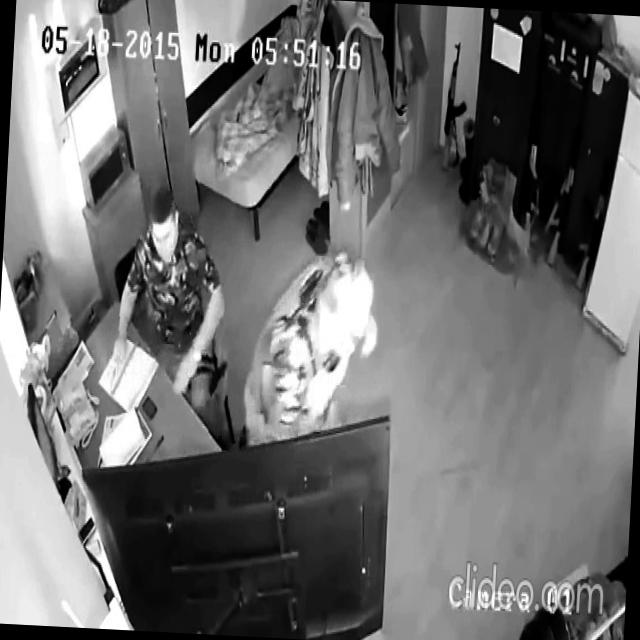gun: (574, 140, 619, 292), (544, 116, 585, 268), (516, 85, 552, 256), (439, 40, 473, 174)
person: (110, 182, 238, 448), (240, 243, 385, 454)
